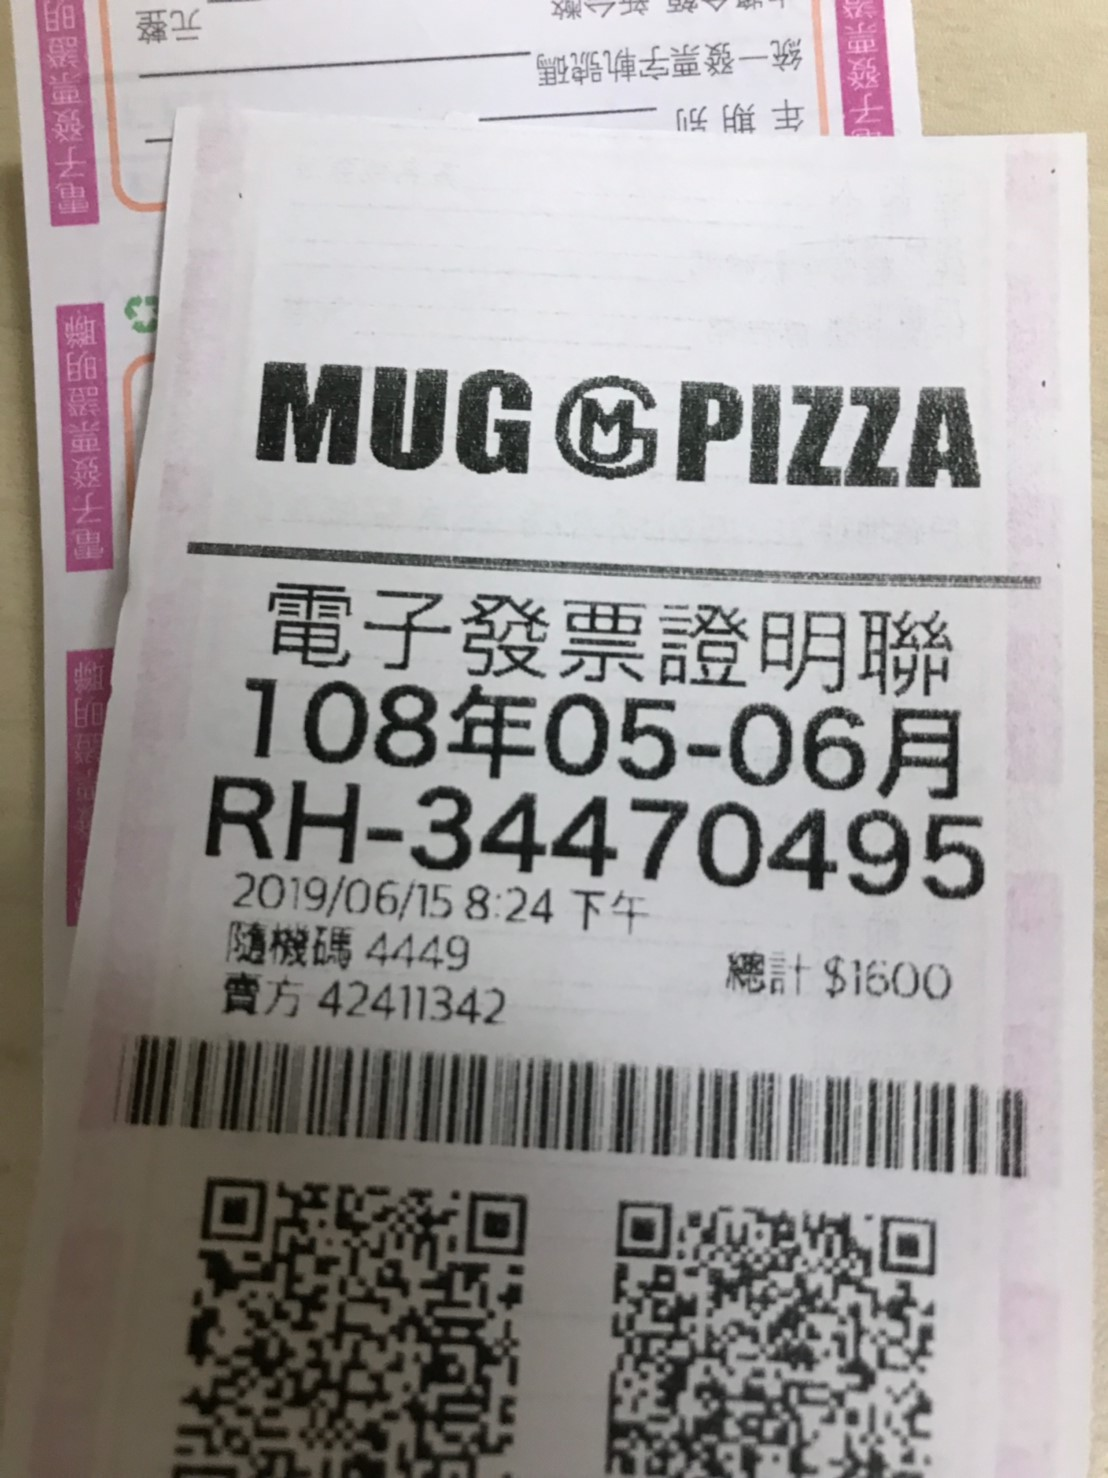Date_New: (236, 667, 970, 806)
Number_New: (411, 783, 993, 905)
